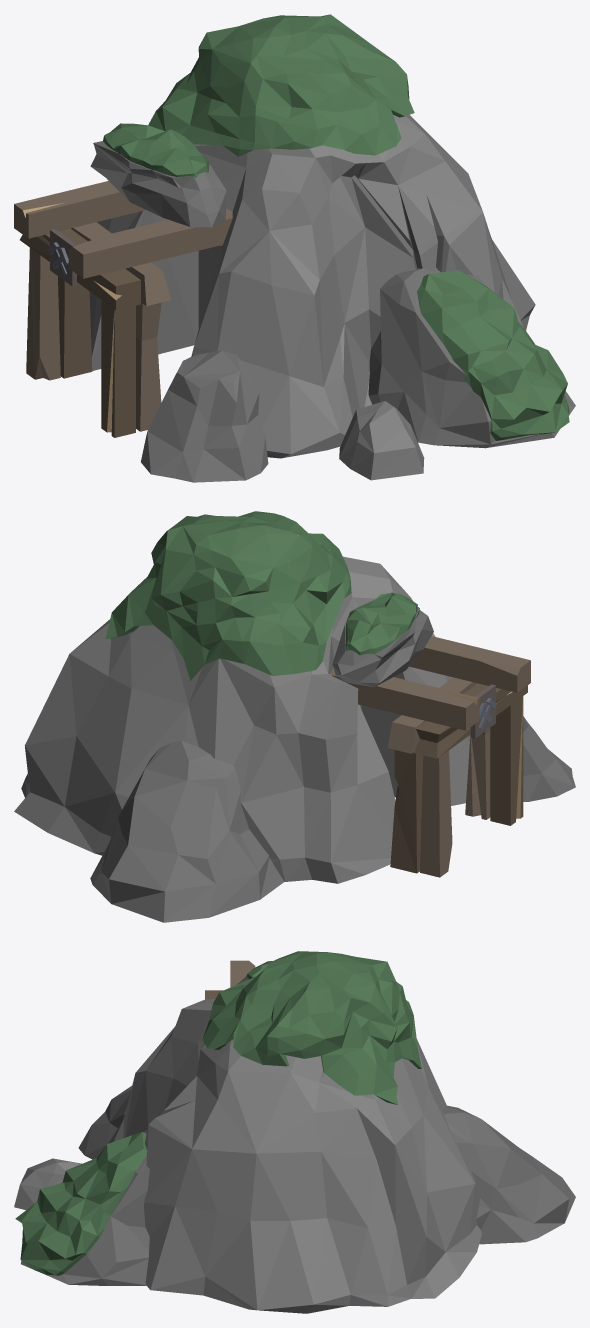
File: _mine_1.fbx
3 views of the same model, one above another, from view 1: azimuth 30°, elevation 25°; view 2: azimuth 150°, elevation 25°; view 3: azimuth 270°, elevation 25° (orthographic). The views are drawn at different scales.
Visible parts, largest first — view 1: _mine_1:mine_1; view 2: _mine_1:mine_1; view 3: _mine_1:mine_1.
Boxes of the visible parts, x1,y1,x2,y2 form: _mine_1:mine_1: (14, 14, 575, 482); _mine_1:mine_1: (14, 511, 575, 922); _mine_1:mine_1: (14, 951, 575, 1313).
Size of the model in its own units: 1314 by 798 by 1553.
